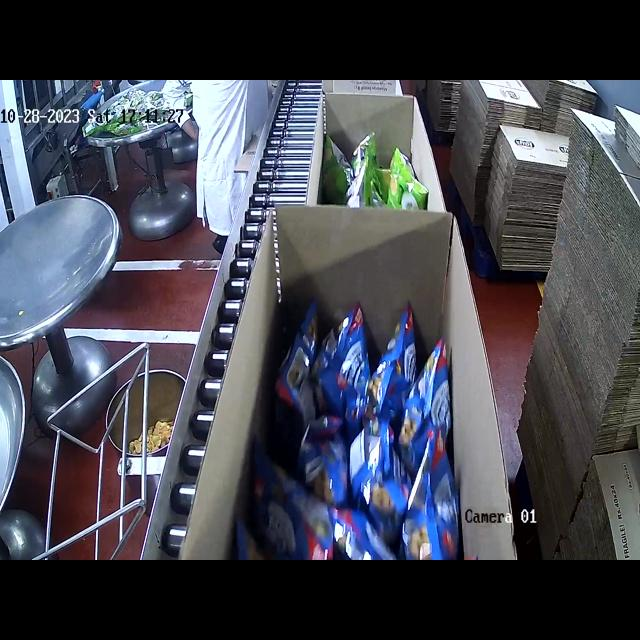paprika: (284, 305, 470, 560)
yogurt: (321, 113, 433, 205)
